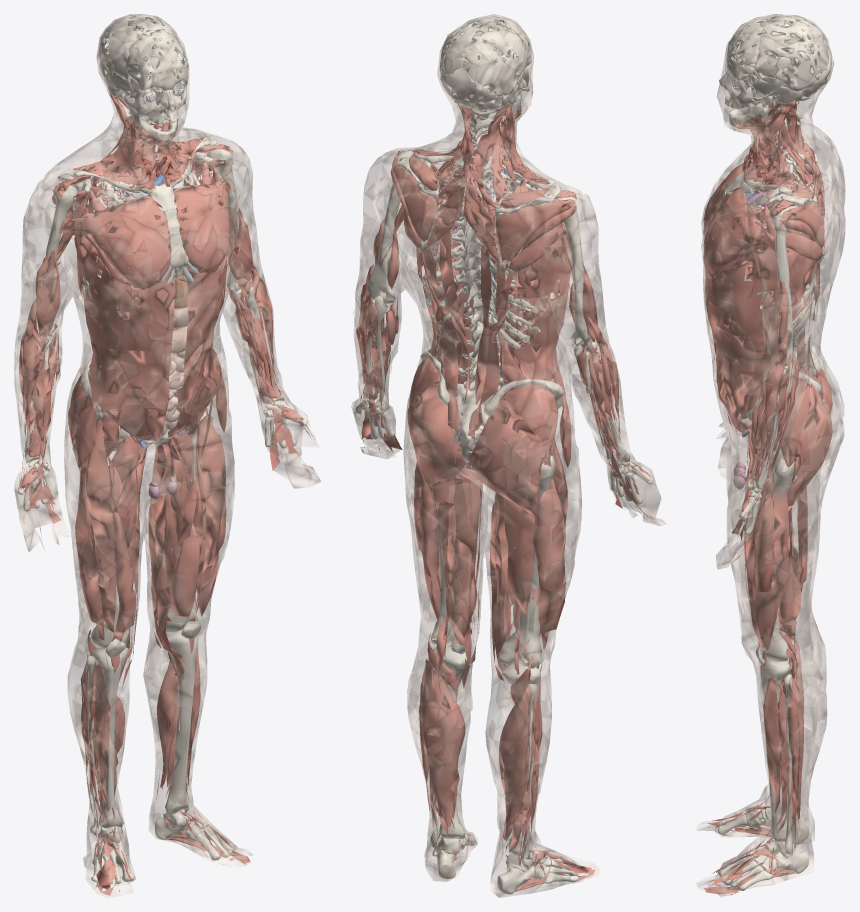
File: body.glb
The picture shows the model from 3 angles, left to right: view 1: azimuth 30°, elevation 25°; view 2: azimuth 150°, elevation 25°; view 3: azimuth 270°, elevation 25°; orthographic projection. The views are drawn at different scales.
Visible parts, largest first — view 1: skin, m.external_oblique, skull, m.pectoralis_major.R, m.pectoralis_major.L, m.brachialis, m.rectus_femoris, m.rectus_femoris.L, tibia.L, m.platysma, m.vastus_medialis.L, m.vastus_lateralis.R (+38 smaller); view 2: skin, m.gluteus_maximus, skull, vertebrae, m.adductor_magnus, m.soleus.L, m.vastus_lateralis.R, m.external_oblique, m.iliocostalis_lumborum, m.semimembranosus.L, m.soleus.R, m.gluteus_medius (+42 smaller); view 3: skin, skull, m.external_oblique, m.vastus_lateralis.L, m.pectoralis_major.L, m.gluteus_maximus, m.serratus_anterior.L, m.platysma.L, foot_bones.L, m.tibialis_anterior.L, tibia.L, femur.L (+36 smaller).
Boxes of the visible parts, x1=… form: skin: x1=14, y1=14, x2=321, y2=897; m.external_oblique: x1=83, y1=252, x2=227, y2=440; skull: x1=98, y1=14, x2=188, y2=142; m.pectoralis_major.R: x1=59, y1=194, x2=171, y2=308; m.pectoralis_major.L: x1=173, y1=179, x2=232, y2=288; m.brachialis: x1=35, y1=203, x2=252, y2=351; m.rectus_femoris: x1=84, y1=419, x2=119, y2=673; m.rectus_femoris.L: x1=189, y1=407, x2=225, y2=652; tibia.L: x1=165, y1=629, x2=197, y2=814; m.platysma: x1=72, y1=116, x2=166, y2=189; m.vastus_medialis.L: x1=170, y1=456, x2=203, y2=617; m.vastus_lateralis.R: x1=75, y1=458, x2=108, y2=666; skin: x1=351, y1=14, x2=666, y2=897; m.gluteus_maximus: x1=407, y1=380, x2=545, y2=517; skull: x1=439, y1=16, x2=531, y2=122; vertebrae: x1=451, y1=108, x2=503, y2=462; m.adductor_magnus: x1=432, y1=464, x2=535, y2=637; m.soleus.L: x1=421, y1=660, x2=465, y2=827; m.vastus_lateralis.R: x1=531, y1=477, x2=566, y2=671; m.external_oblique: x1=422, y1=226, x2=570, y2=394; m.iliocostalis_lumborum: x1=420, y1=252, x2=513, y2=439; m.semimembranosus.L: x1=446, y1=472, x2=476, y2=667; m.soleus.R: x1=499, y1=684, x2=530, y2=839; m.gluteus_medius: x1=409, y1=358, x2=557, y2=466; skin: x1=696, y1=14, x2=845, y2=897; skull: x1=719, y1=15, x2=831, y2=126; m.external_oblique: x1=705, y1=261, x2=793, y2=433; m.vastus_lateralis.L: x1=752, y1=491, x2=788, y2=650; m.pectoralis_major.L: x1=703, y1=185, x2=776, y2=294; m.gluteus_maximus: x1=786, y1=368, x2=832, y2=510; m.serratus_anterior.L: x1=745, y1=184, x2=816, y2=309; m.platysma.L: x1=730, y1=114, x2=793, y2=189; foot_bones.L: x1=718, y1=839, x2=808, y2=890; m.tibialis_anterior.L: x1=755, y1=677, x2=781, y2=849; tibia.L: x1=761, y1=658, x2=790, y2=841; femur.L: x1=763, y1=441, x2=794, y2=662.
Bounding box in the file's own units: 0.6439 × 1.71 × 0.2772.
